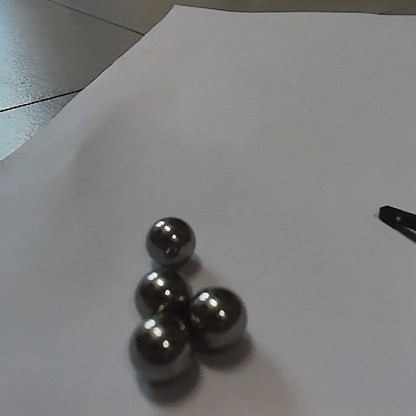ironball: (127, 318, 196, 387), (187, 282, 251, 353), (131, 270, 193, 319), (143, 213, 197, 269)
